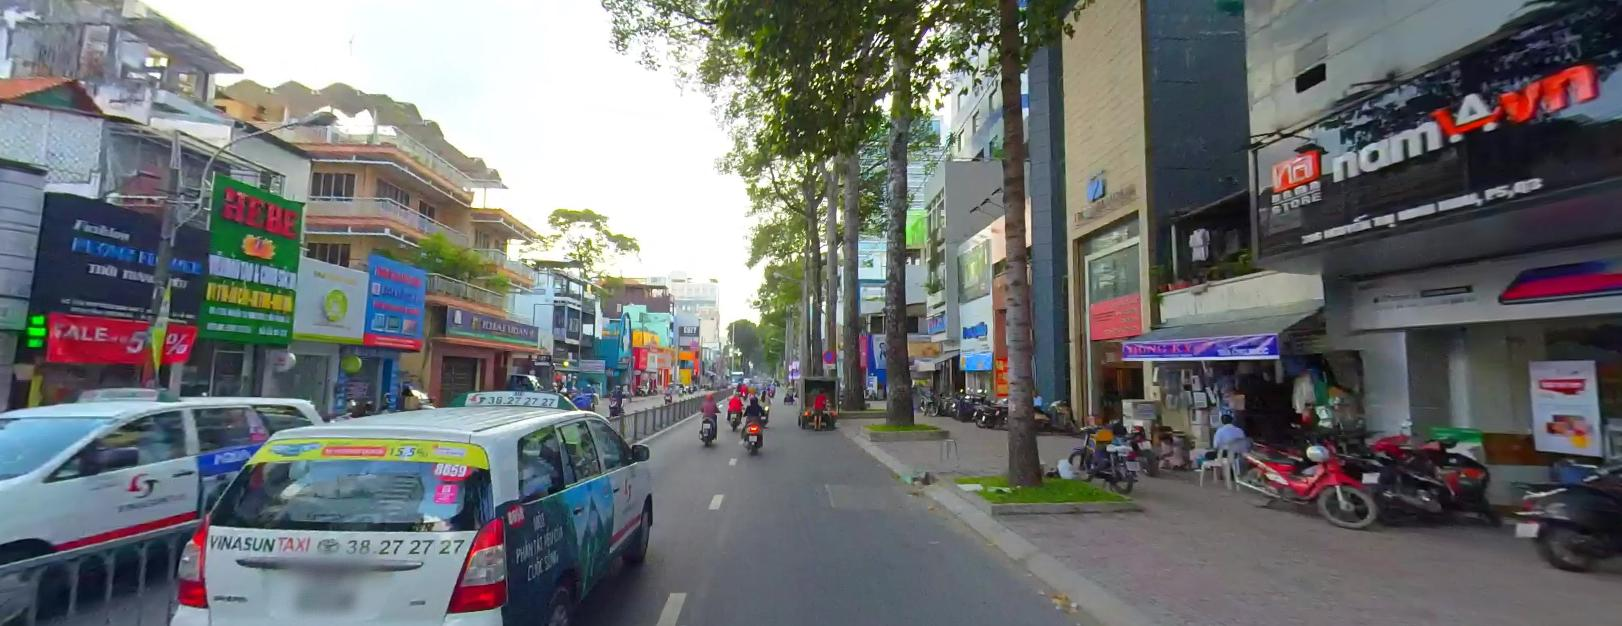Cam dung va do: (822, 348, 836, 361), (822, 349, 835, 362), (823, 348, 835, 361), (822, 349, 834, 361)
